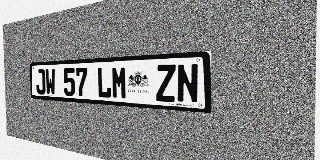5: (63, 68, 75, 96)
7: (75, 67, 88, 97)
J: (36, 69, 46, 95)
L: (97, 67, 111, 99)
M: (111, 66, 127, 99)
N: (176, 63, 199, 104)
W: (45, 69, 56, 95)
Z: (156, 64, 176, 102)
